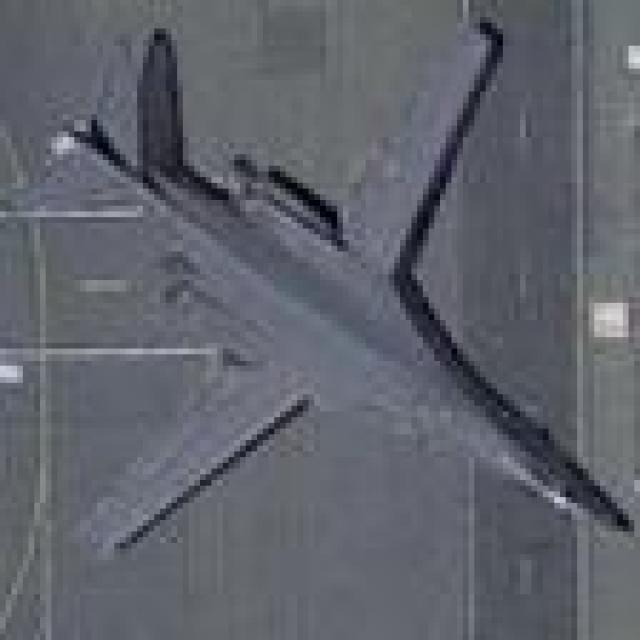B-1_TopDown: (0, 17, 629, 561)
